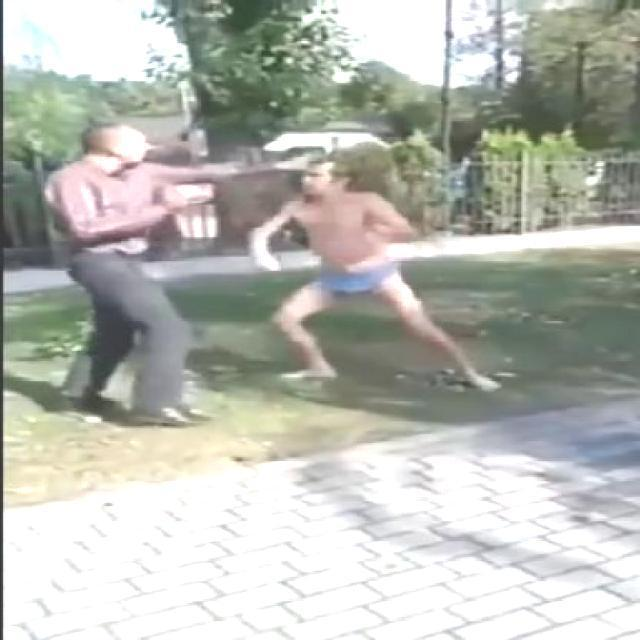fight: (44, 125, 502, 418)
